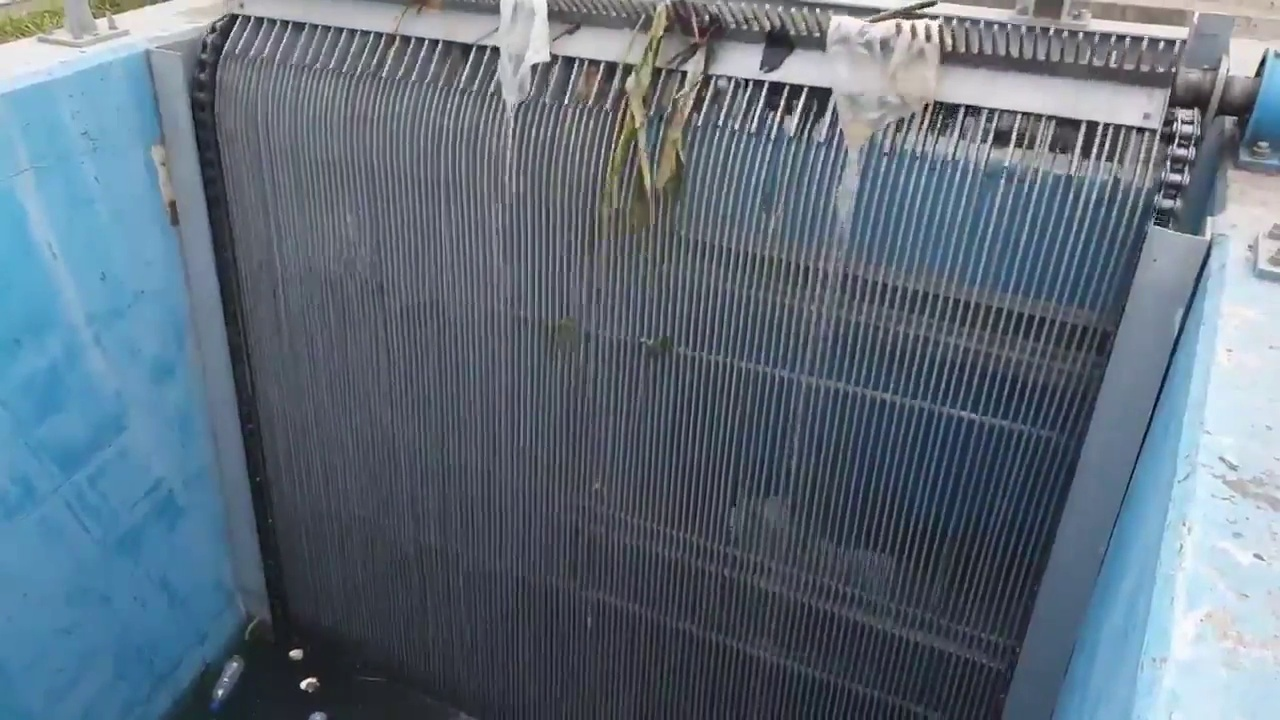debris: (606, 2, 723, 230), (826, 16, 947, 221), (606, 4, 667, 226), (498, 0, 550, 110), (210, 655, 244, 711), (759, 27, 795, 73), (243, 617, 261, 641), (1219, 455, 1238, 471), (299, 677, 319, 692), (289, 648, 303, 661), (356, 676, 386, 682), (308, 712, 327, 719)
